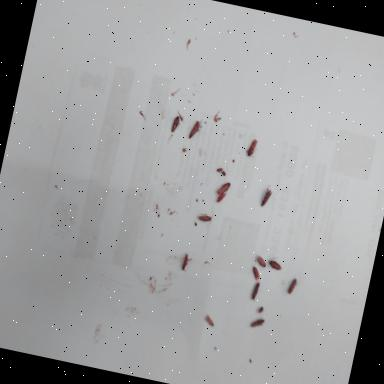pbw: (188, 116, 204, 141), (249, 260, 265, 284), (260, 182, 274, 208), (243, 136, 258, 157), (266, 255, 284, 272), (196, 210, 214, 226), (180, 252, 194, 272), (215, 180, 231, 197), (248, 314, 264, 330), (249, 280, 260, 301), (286, 277, 298, 295), (254, 255, 268, 270), (170, 114, 180, 133), (204, 314, 216, 326), (216, 190, 226, 204)
